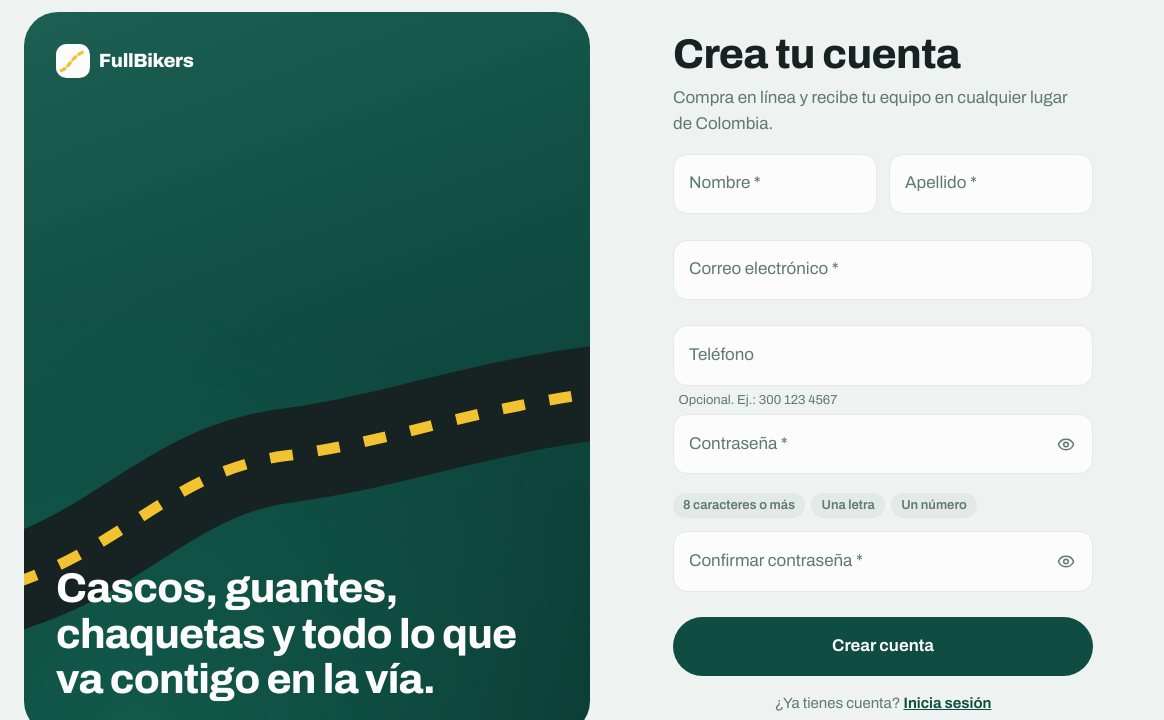
autenticación › registro: muestra en el campo un correo ya registrado
This screenshot has width=1164, height=720.
Type "Ana" into the field labelled "Nombre *". click: (775, 184)
box: [673, 154, 877, 214]
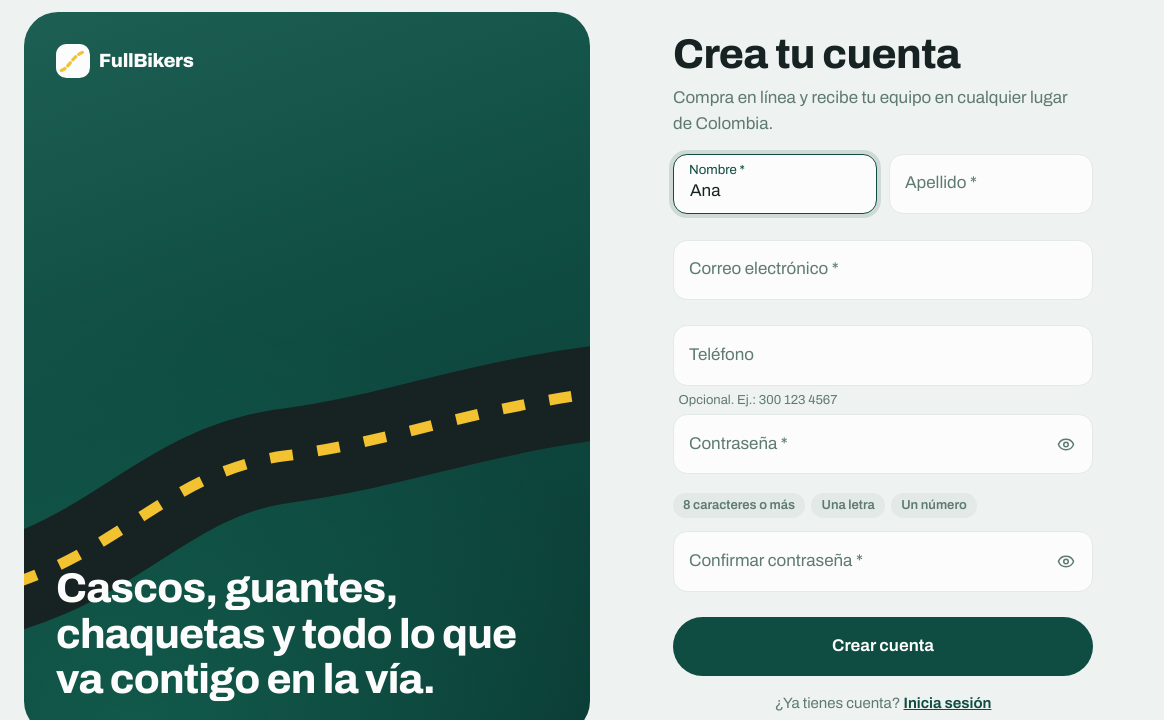
Type "Pérez" into the field labelled "Apellido *". click: (991, 184)
box: [889, 154, 1093, 214]
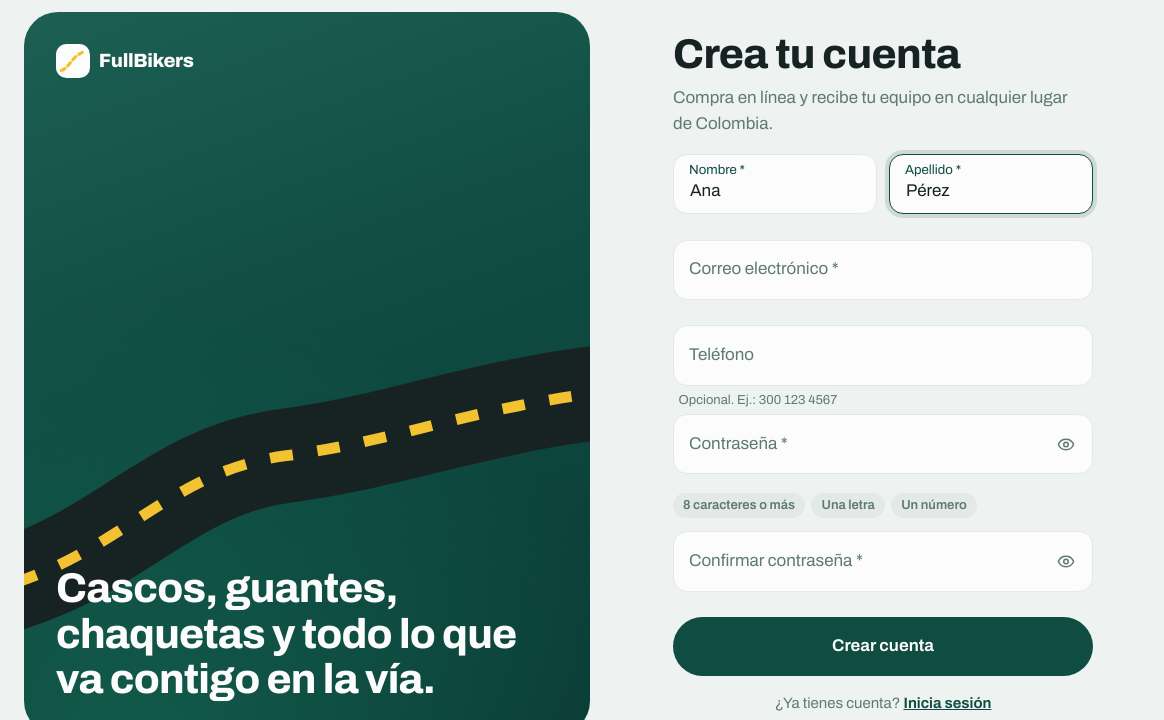
Type "ana@ejemplo.com" into the field labelled "Correo electrónico *". click: (883, 270)
box: [673, 240, 1093, 300]
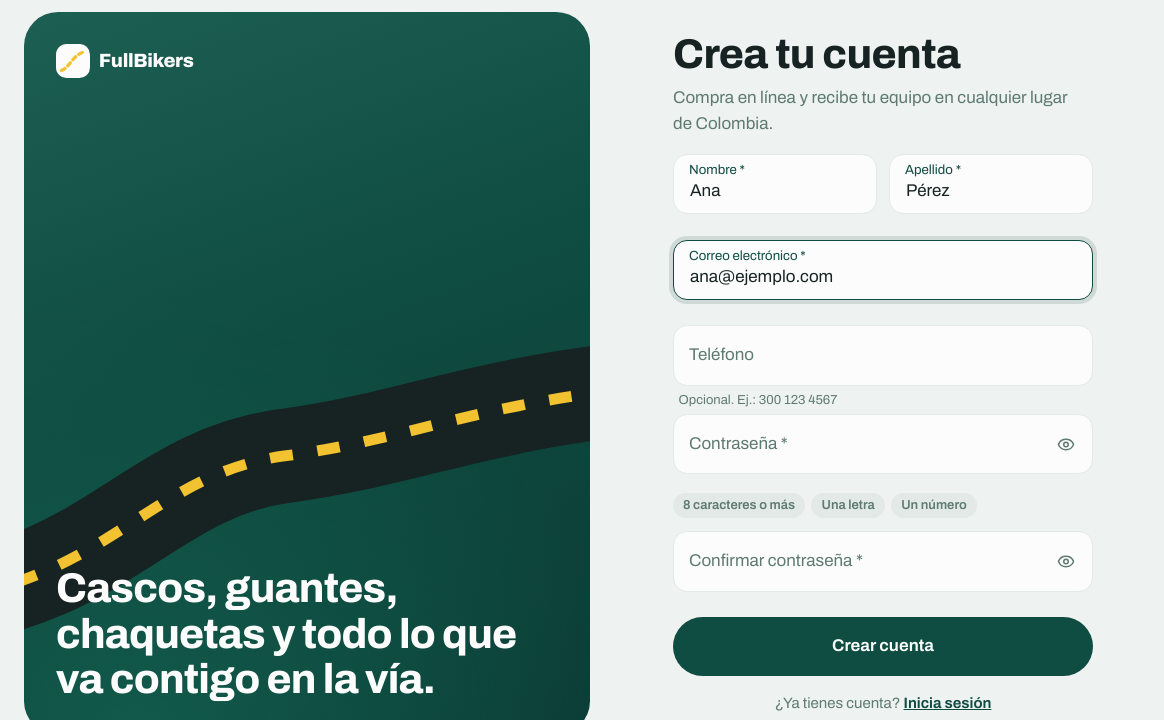
Type "Segura2026" into the password field labelled "Contraseña *". click: (883, 444)
box: [673, 414, 1093, 474]
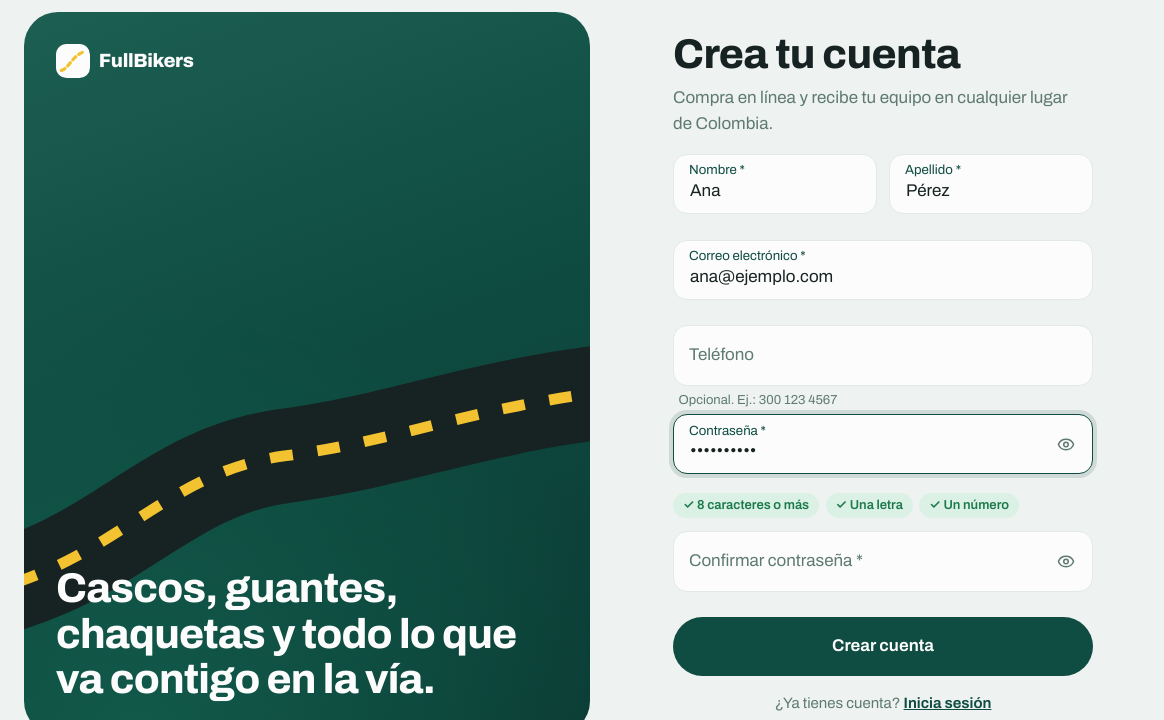
Type "Segura2026" into the password field labelled "Confirmar contraseña *". click: (883, 561)
box: [673, 531, 1093, 592]
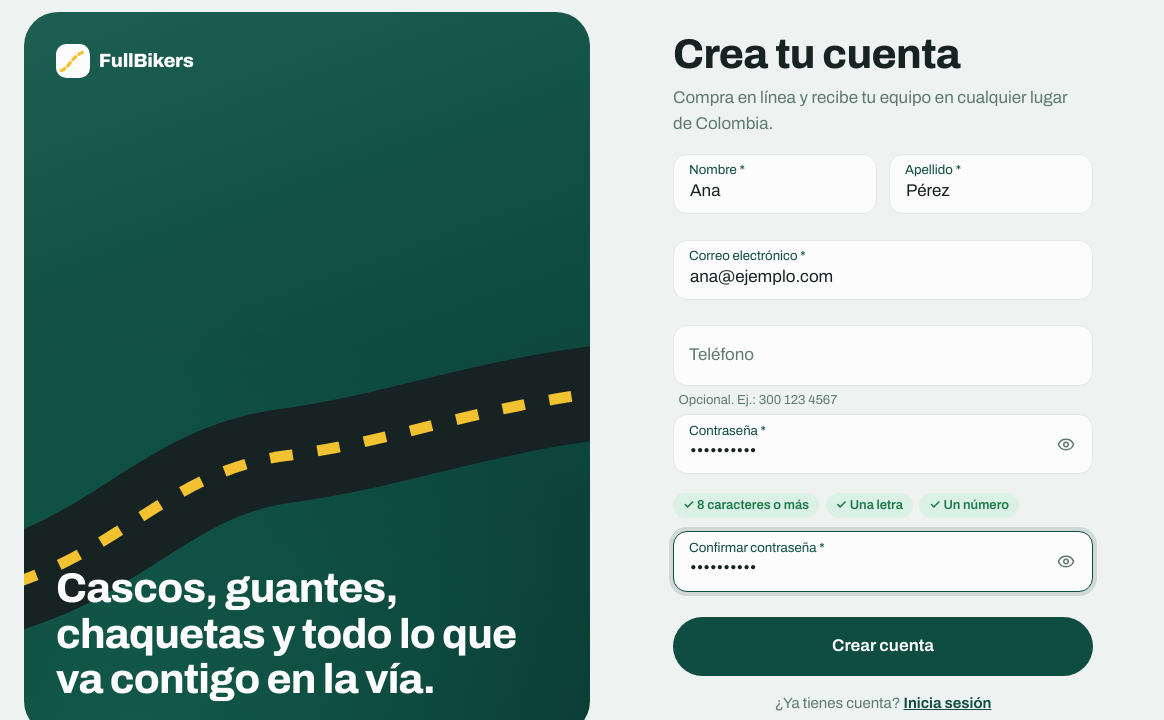
Click the button "Crear cuenta". click: (883, 646)
box: [673, 617, 1093, 676]
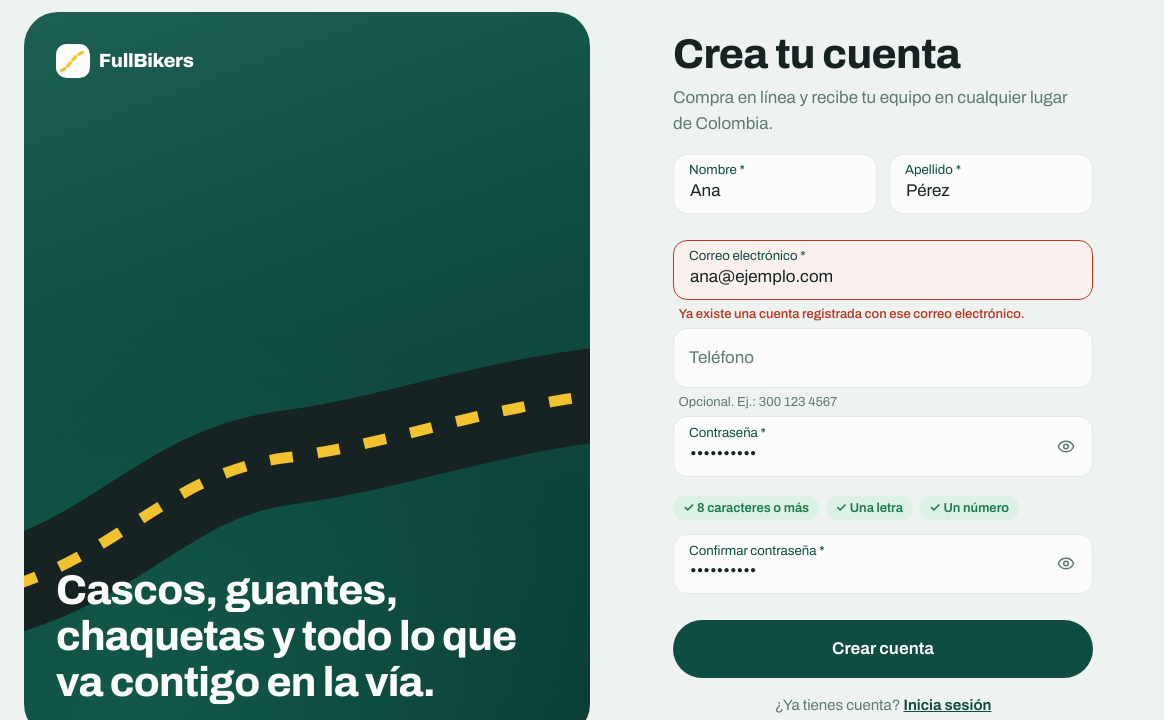
Now the text "Ya existe una cuenta registrada con ese correo electrónico." is shown, box [679, 304, 1025, 324]
